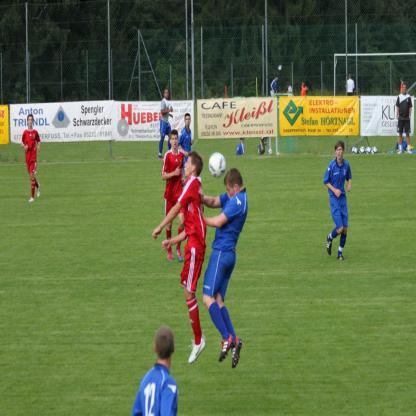face: (185, 156, 192, 177), (227, 185, 234, 201), (336, 147, 344, 160), (172, 135, 178, 149), (186, 116, 191, 127), (29, 117, 34, 127), (166, 91, 170, 99), (404, 86, 407, 94)
